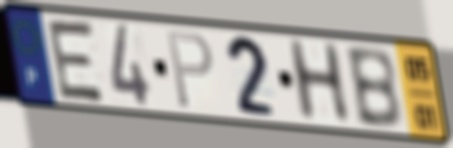2: (223, 33, 283, 122)
4: (108, 22, 154, 109)
B: (342, 45, 405, 133)
E: (44, 17, 109, 106)
H: (283, 36, 354, 124)
P: (164, 29, 216, 112)
